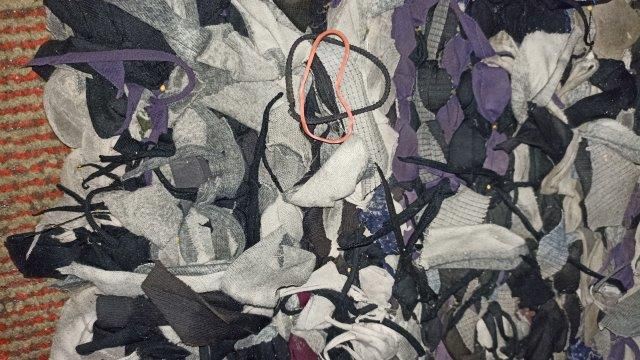karet: (285, 29, 391, 143)
